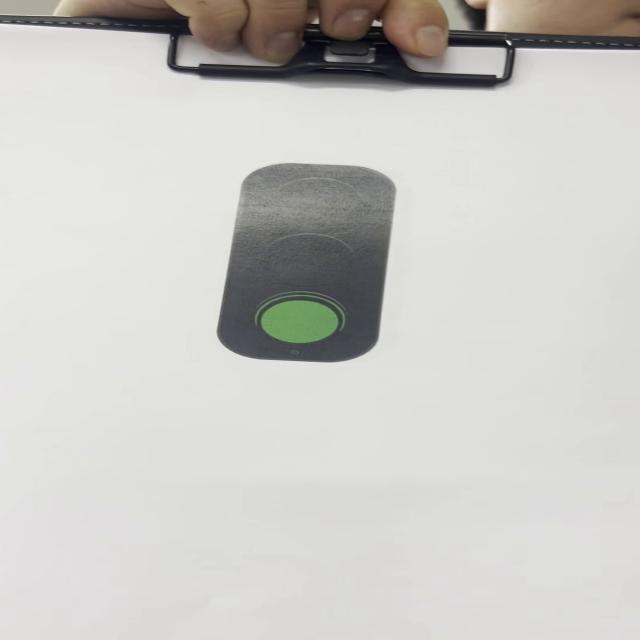green: (222, 161, 398, 363)
